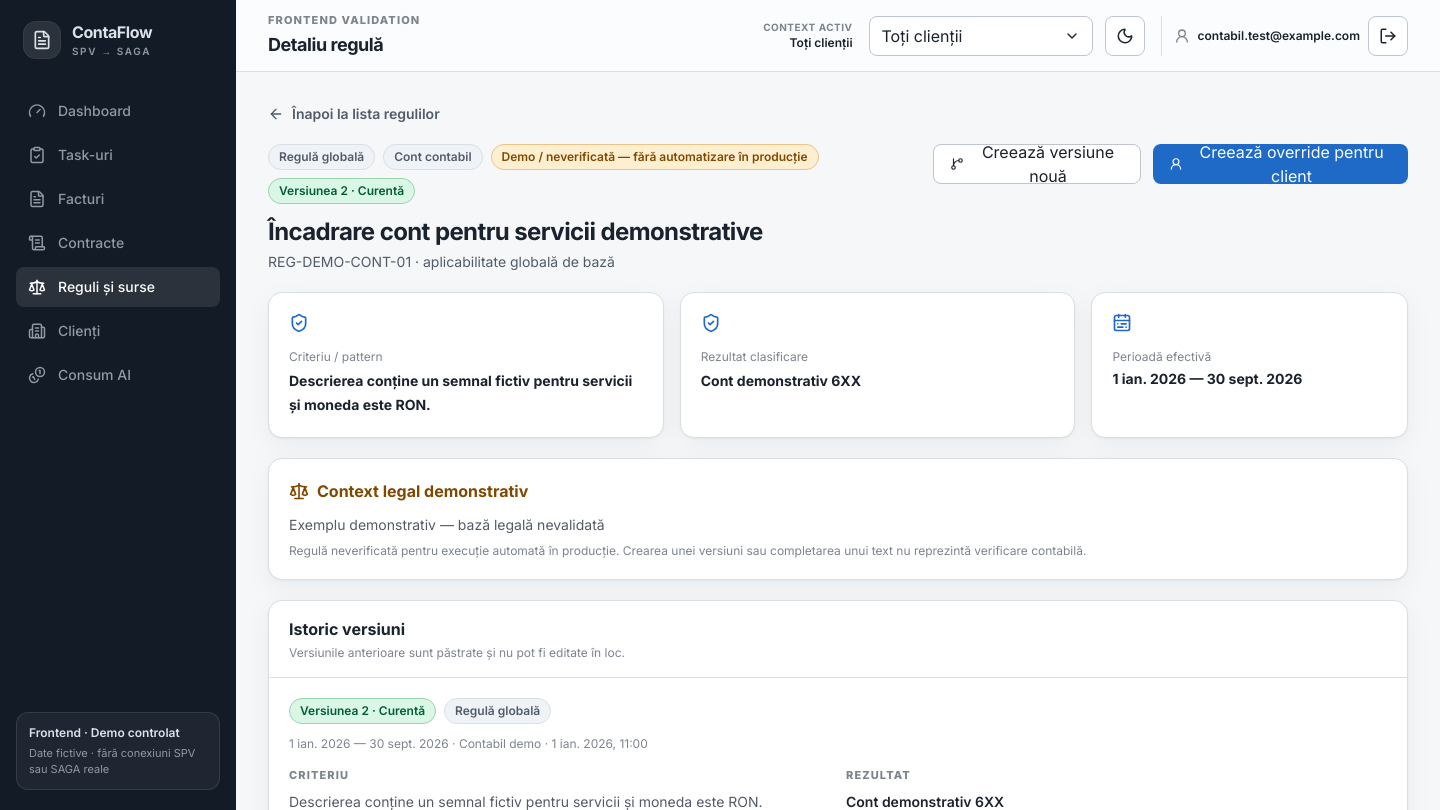
Test case: Rule Detail and mutations › creates a new version while preserving previous versions and scope
The image size is (1440, 810).
Click the button "Creează versiune nouă" at (1037, 164), box [933, 144, 1141, 184]
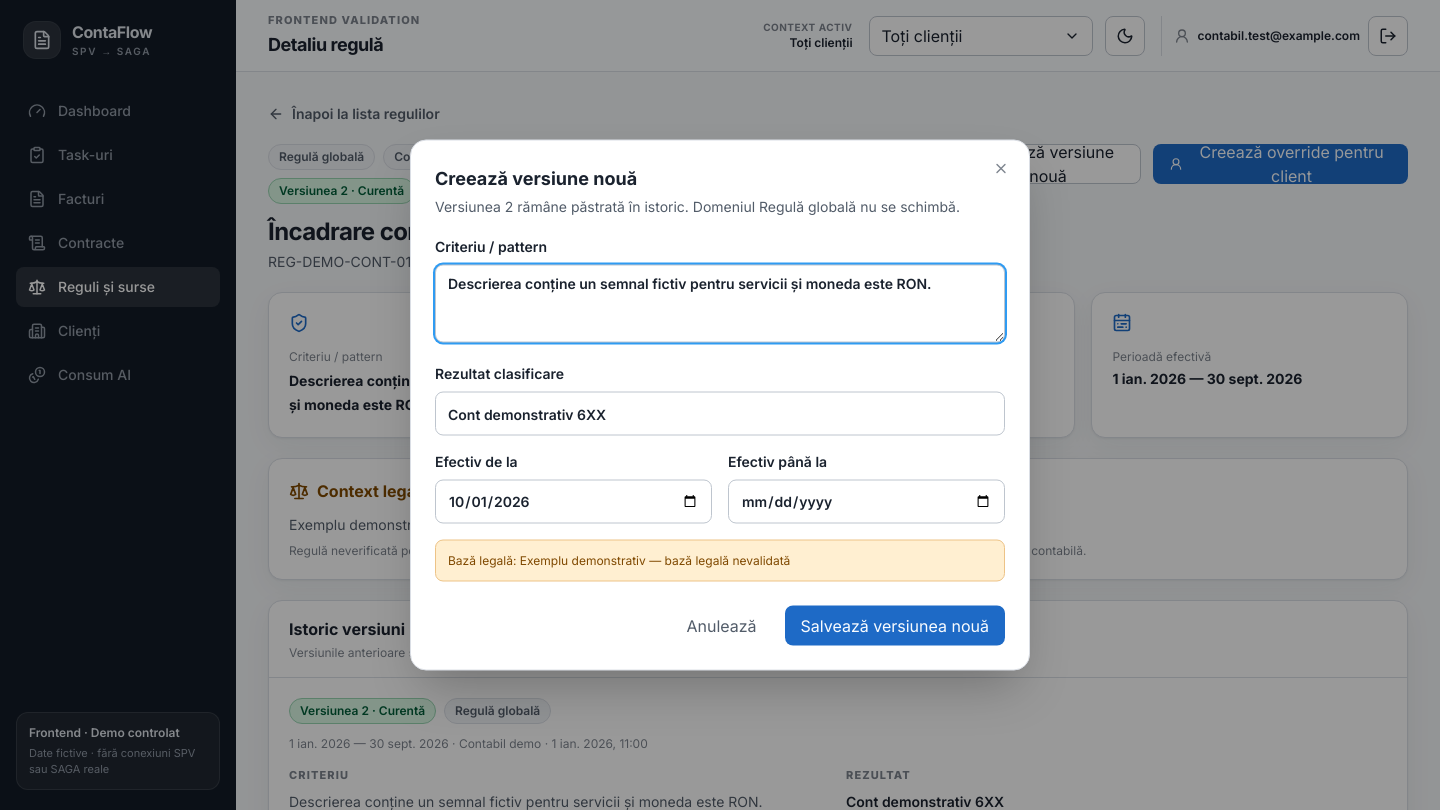
Replace the text in the text box labelled "Criteriu / pattern" with "Criteriu demonstrativ pentru versiunea trei" at (720, 304), box [435, 264, 1005, 342]
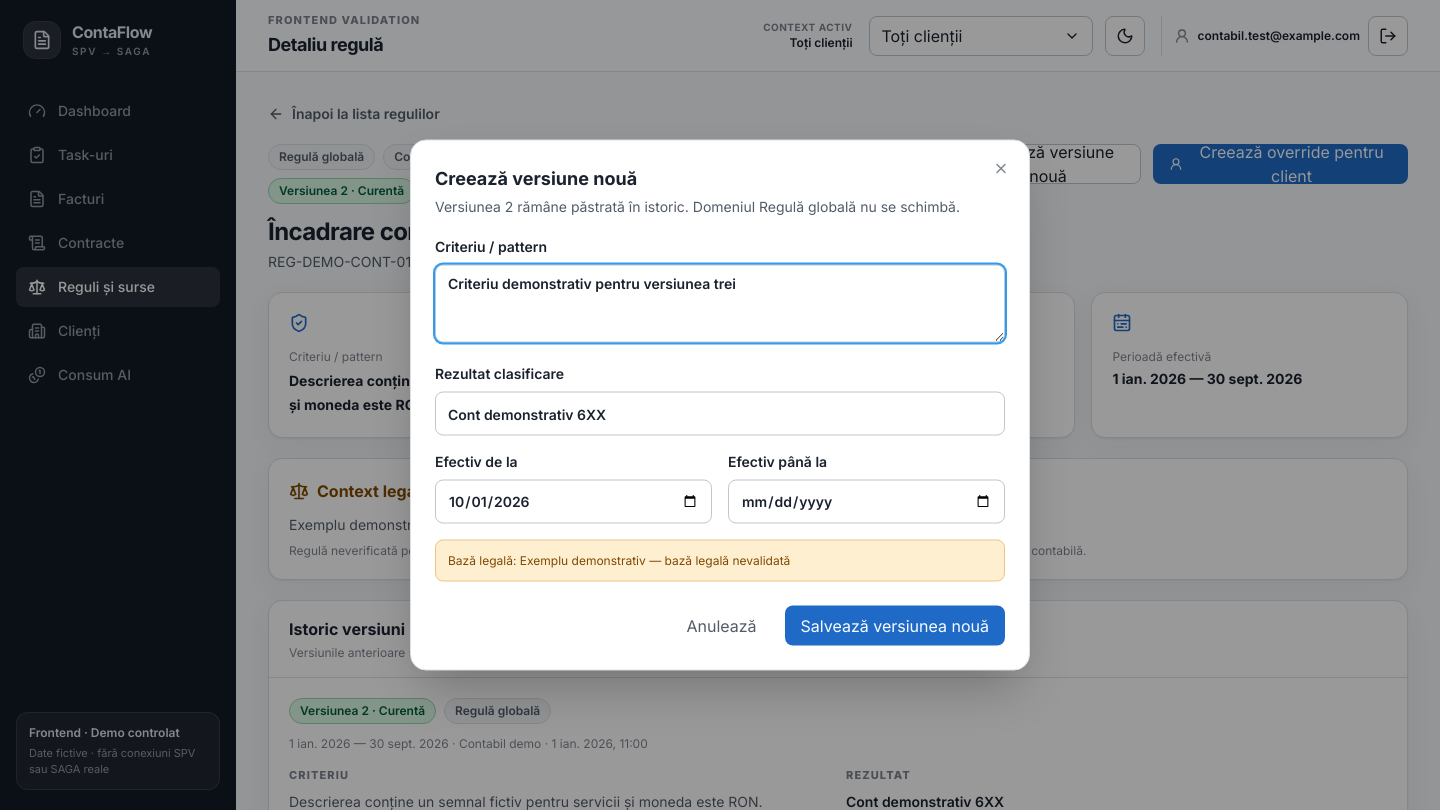
Replace the text in the field labelled "Rezultat clasificare" with "Cont demonstrativ 6YY" at (720, 414), box [435, 392, 1005, 436]
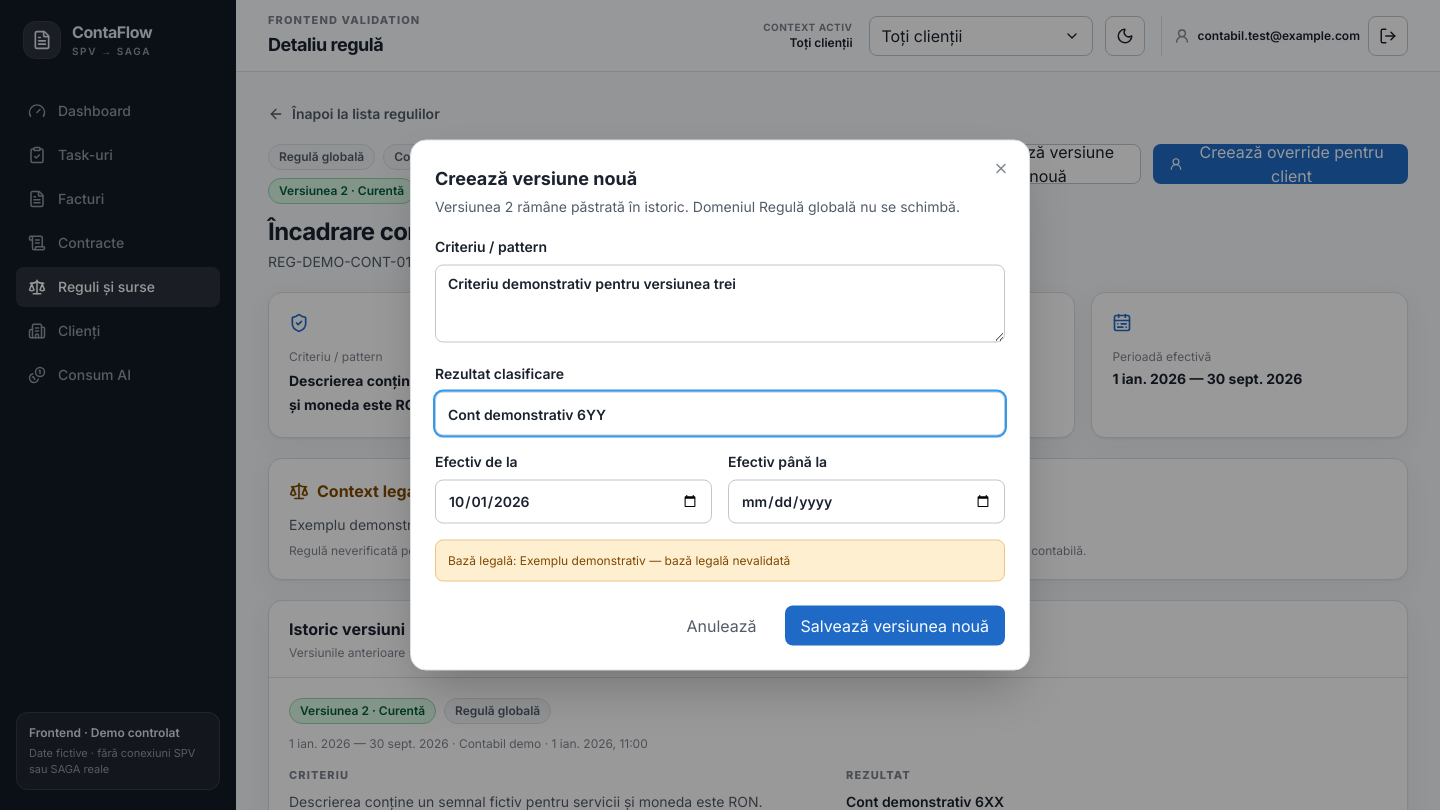
Click the button "Salvează versiunea nouă" at (895, 626), box [785, 606, 1005, 646]
(page scrolled)
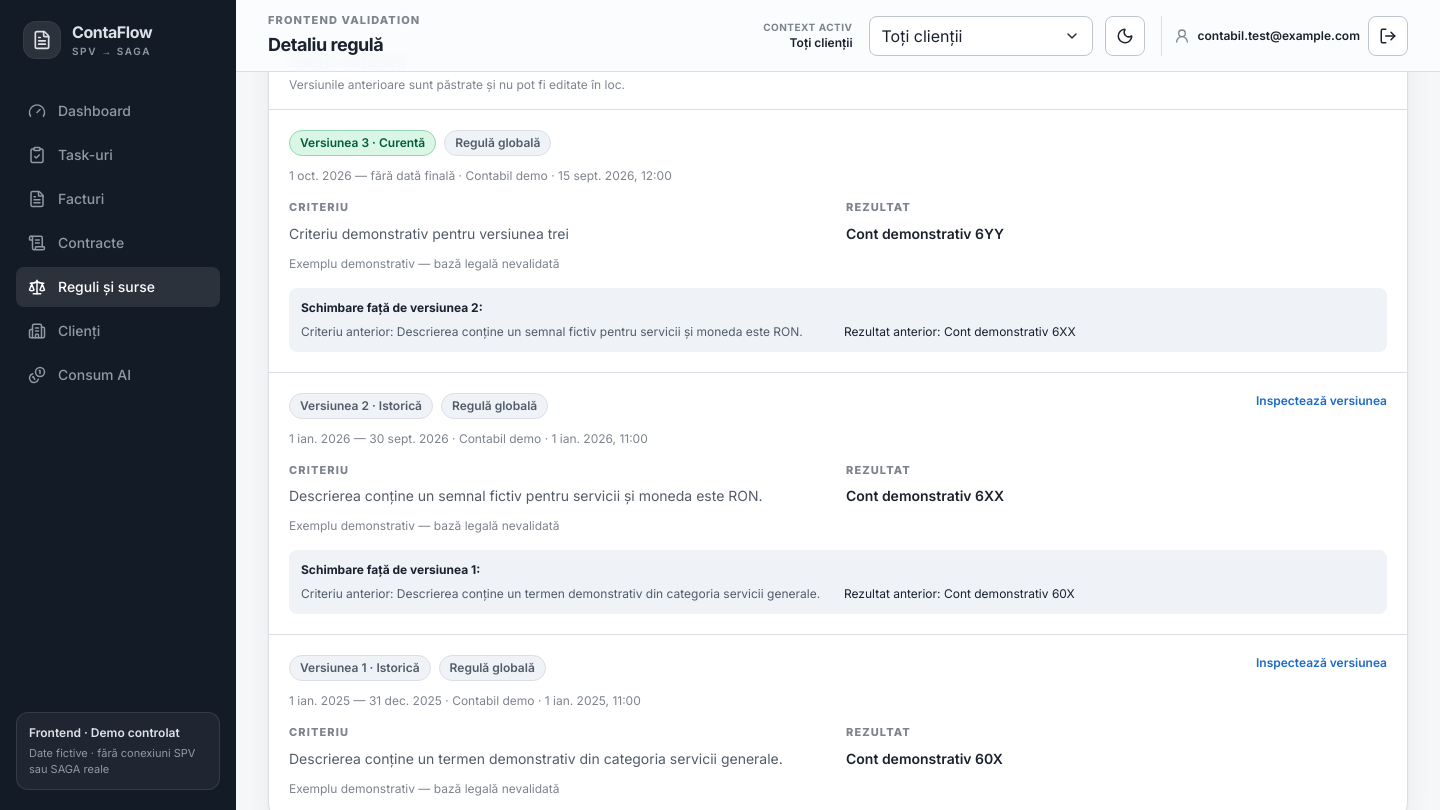
expect the text "Versiunea 2 · Istorică" is shown: met, box [289, 393, 433, 419]
